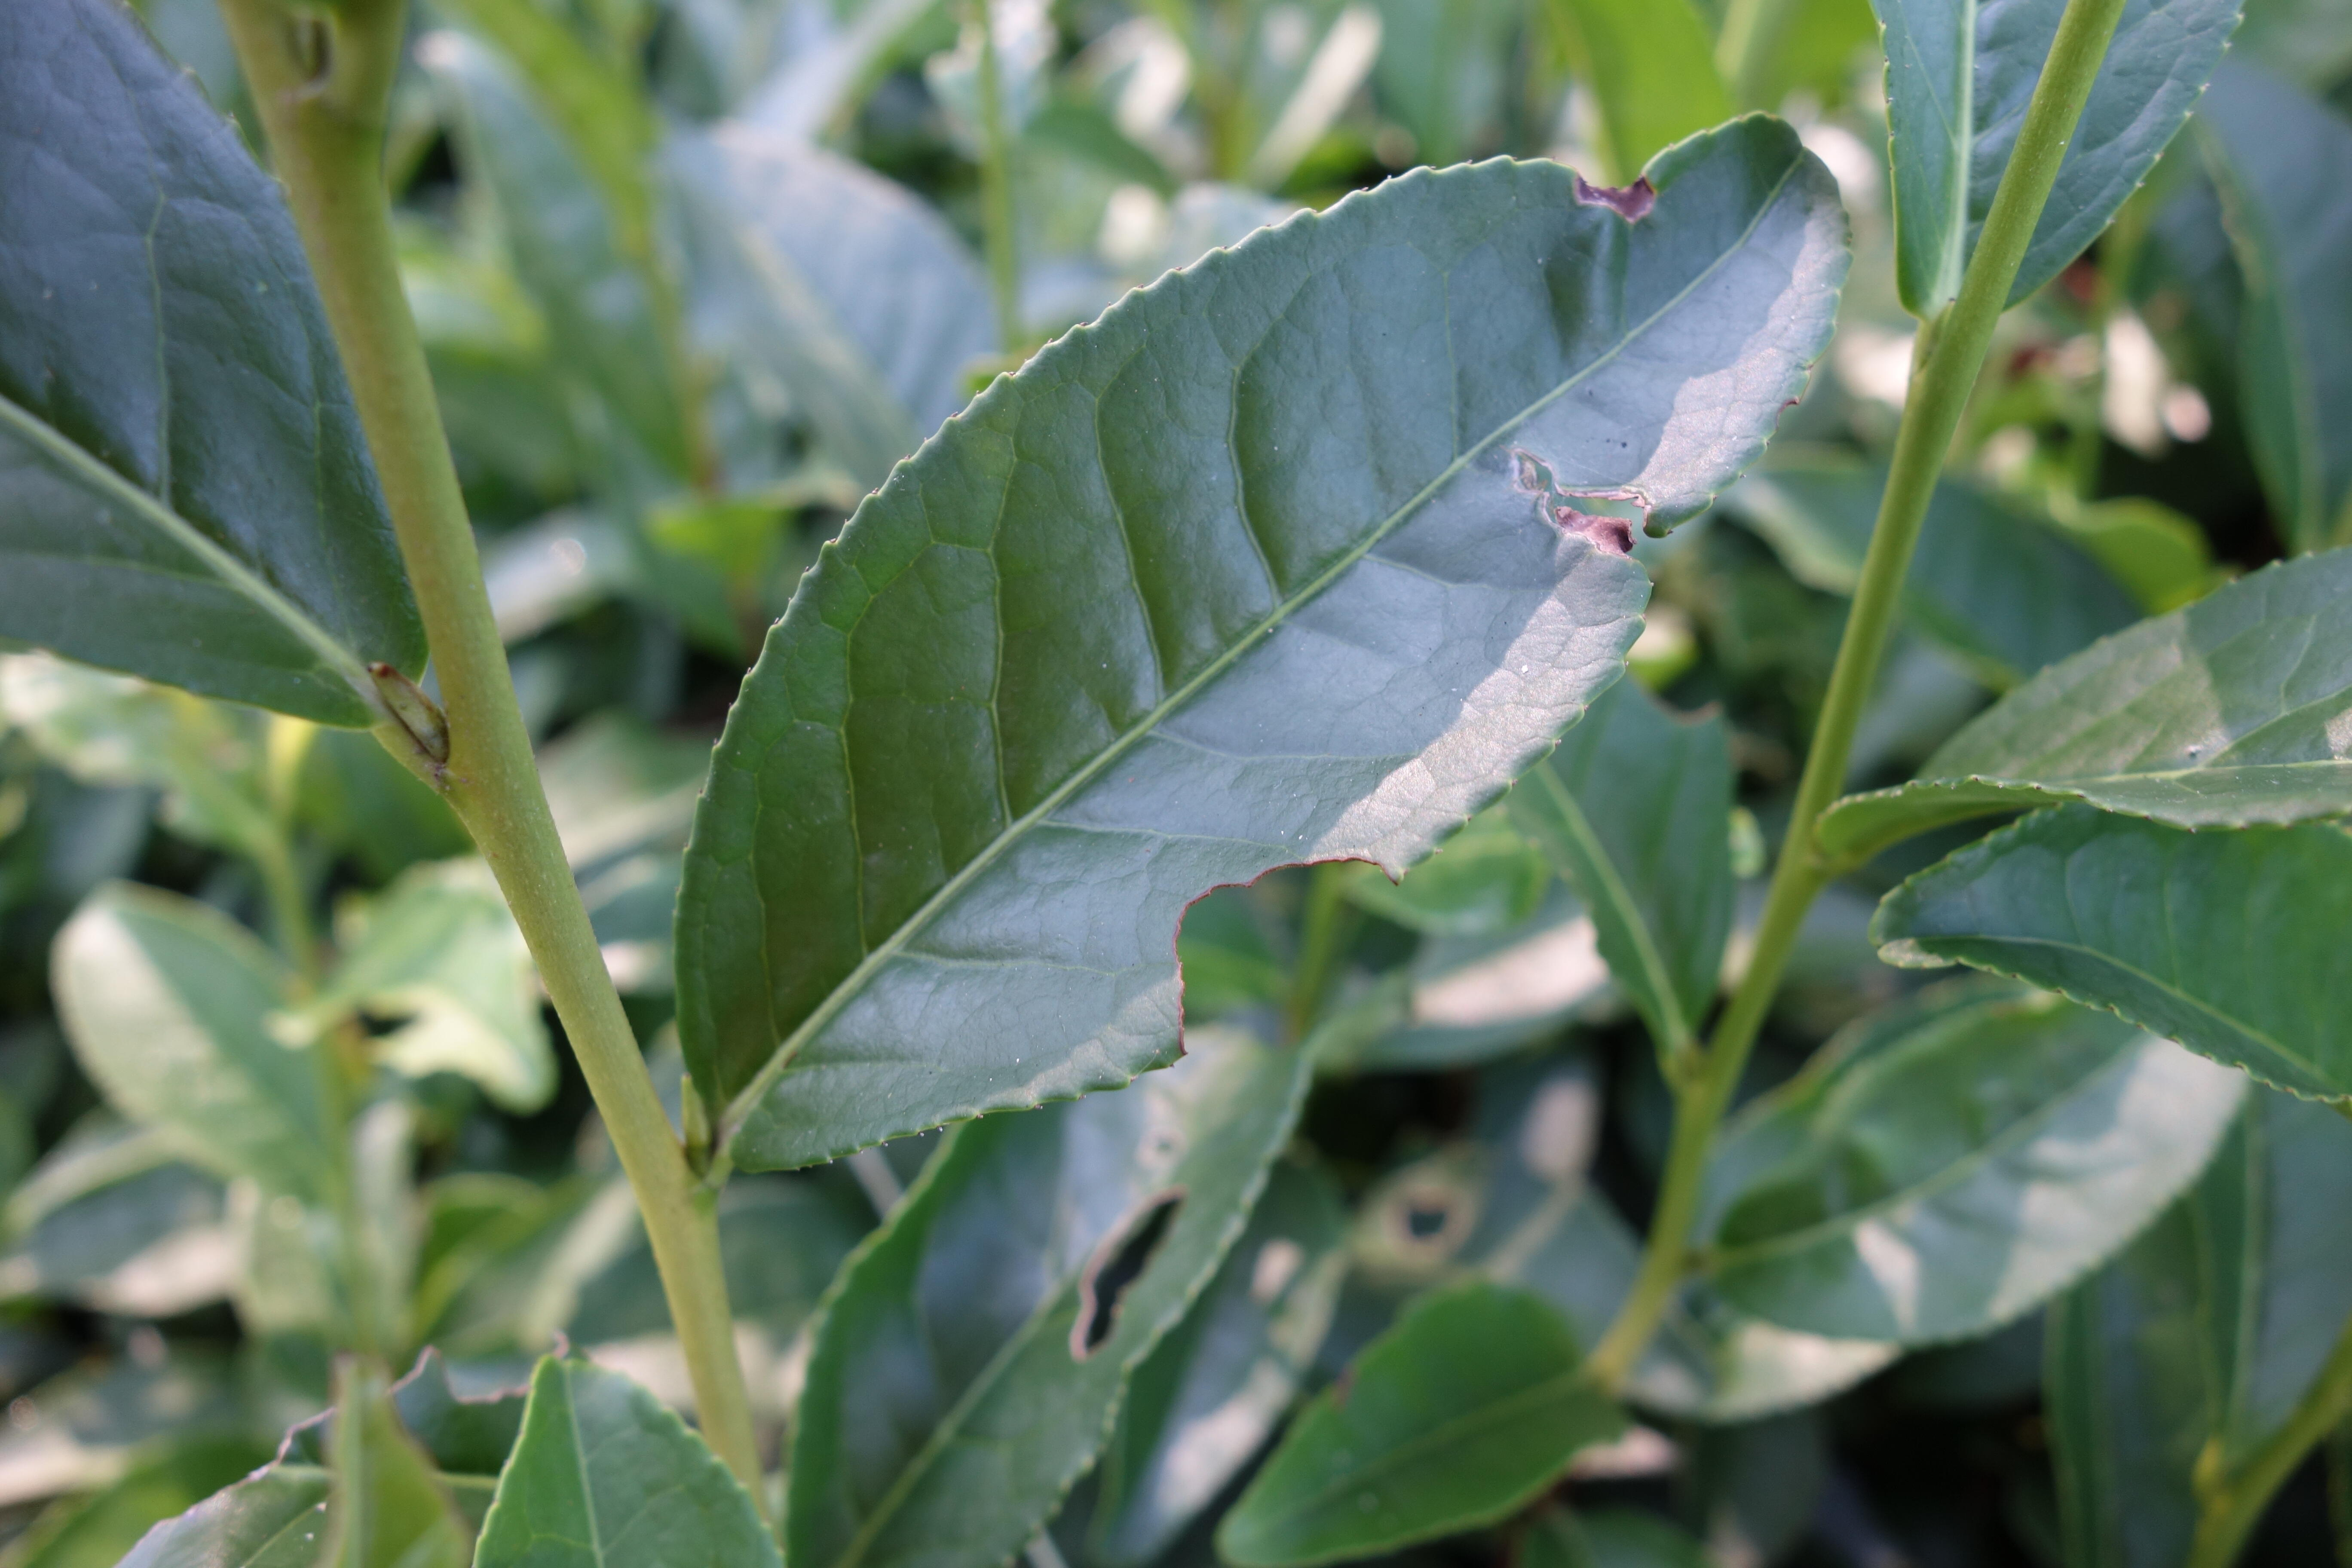chihuo_high: (672, 108, 1855, 1178)
healthy: (1811, 551, 2347, 870), (1865, 801, 2348, 1101)
